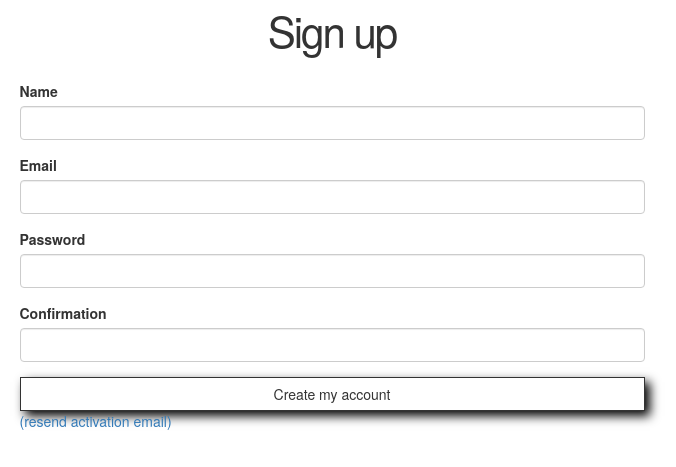
Signup Page › shows error when passwords do not match
Type "Manh" into the field labelled "Name". click: x=332, y=123
box: x1=20 y1=106 x2=644 y2=140
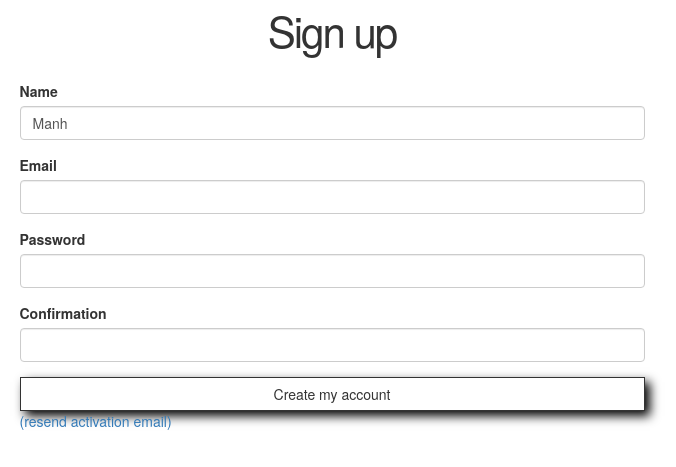
Type "test@gmail.com" into the field labelled "Email". click: x=332, y=197
box: x1=20 y1=180 x2=644 y2=214
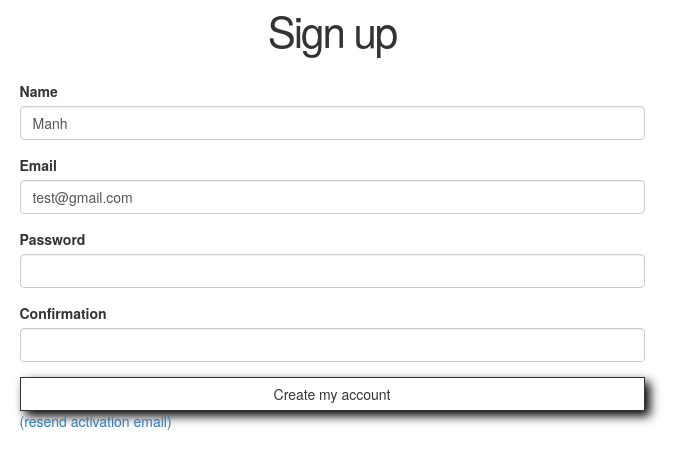
Type "123456" into the password field labelled "Password". click: x=332, y=271
box: x1=20 y1=254 x2=644 y2=288
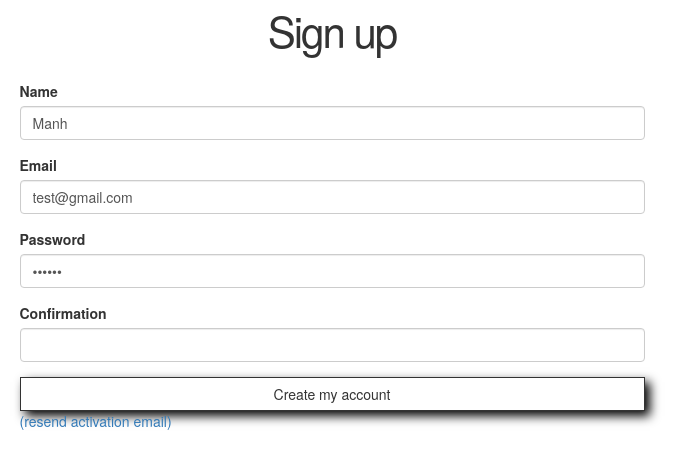
Type "654321" into the password field labelled "Confirmation". click: x=332, y=345
box: x1=20 y1=328 x2=644 y2=362
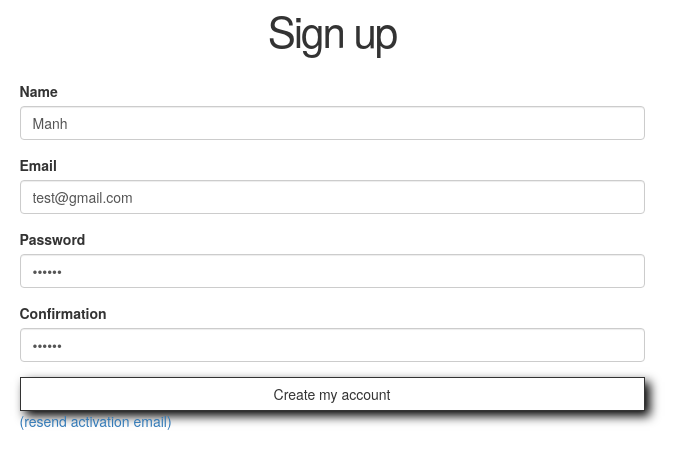
Click the button "Create my account". click: x=332, y=394
box: x1=20 y1=377 x2=644 y2=411
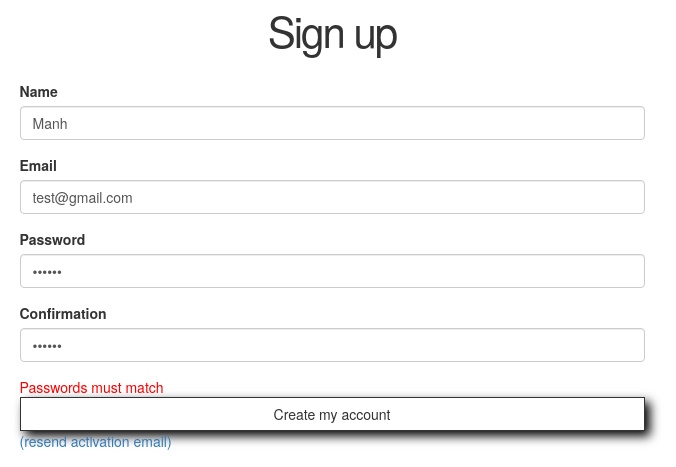
Expected: the text "Passwords must match" is shown, x1=20 y1=377 x2=164 y2=397
